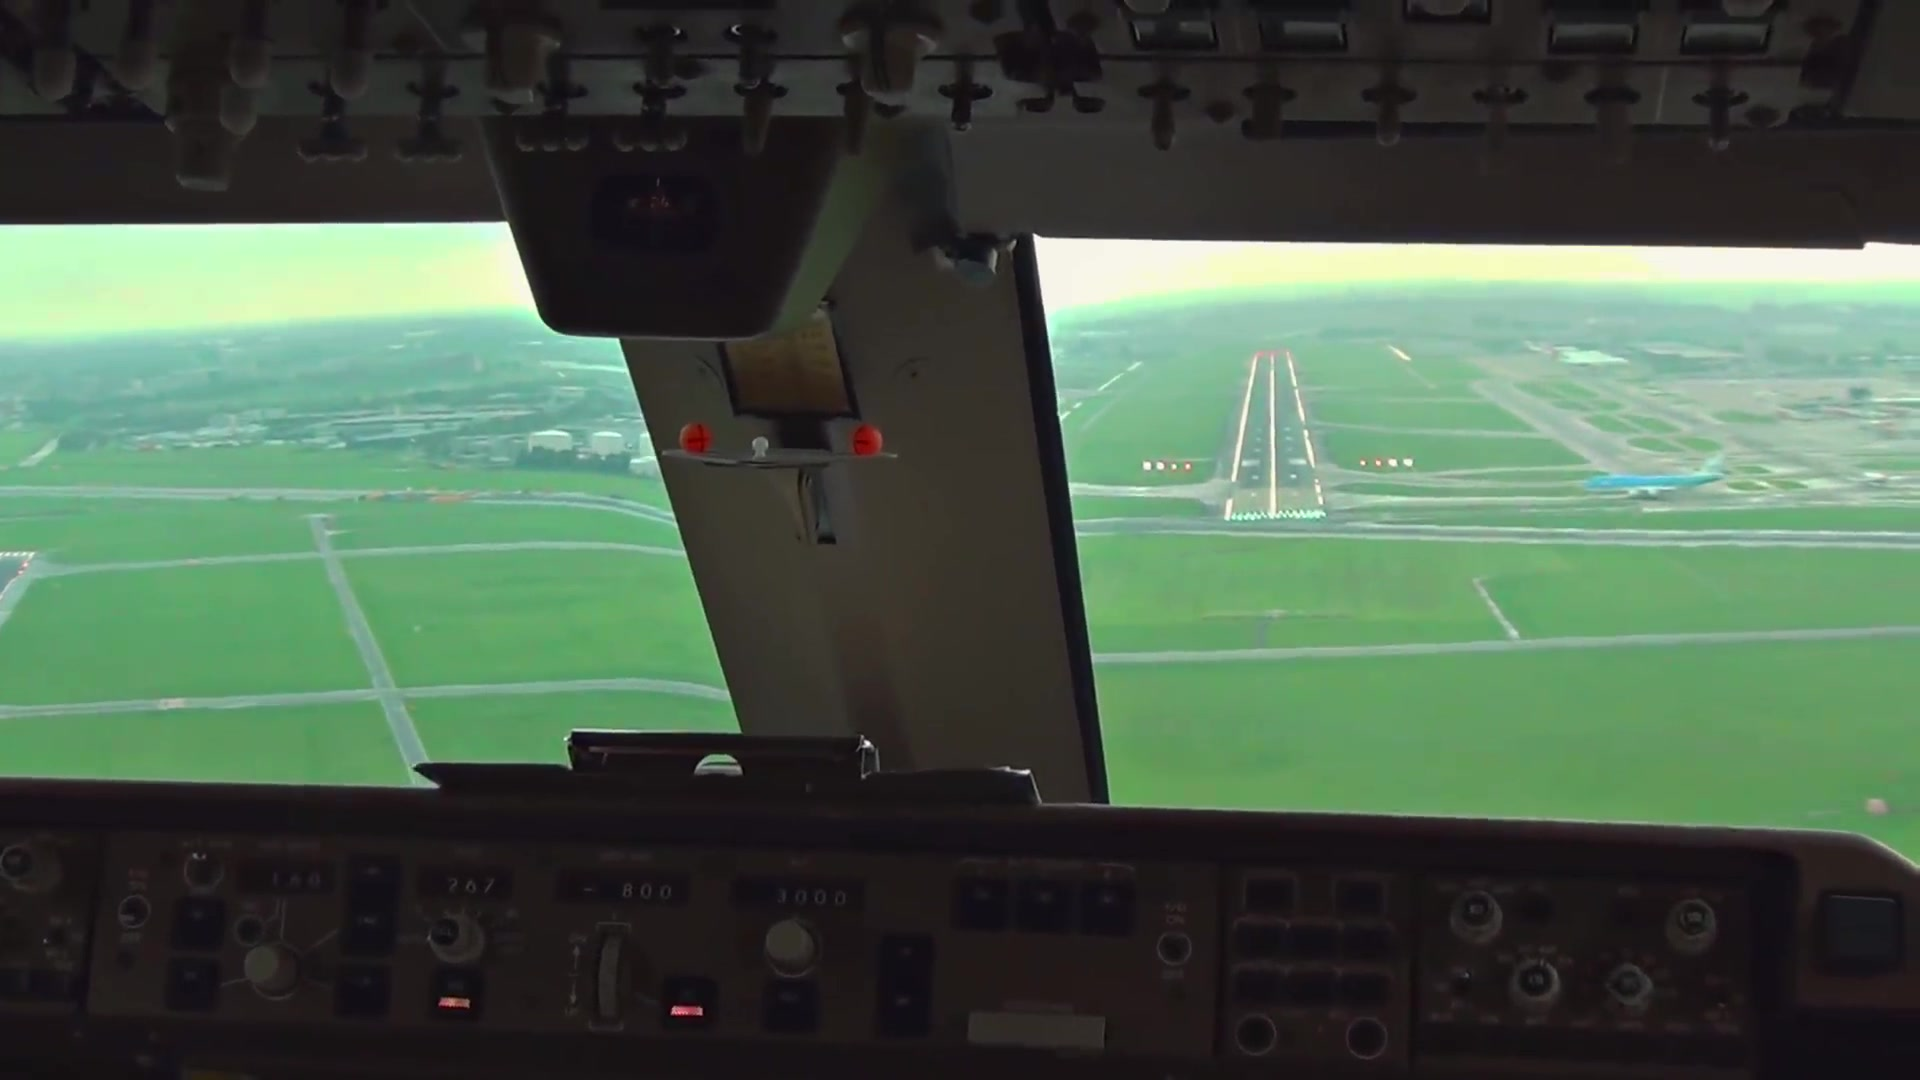entrance: (1229, 510, 1332, 522)
runway: (1217, 349, 1329, 531)
